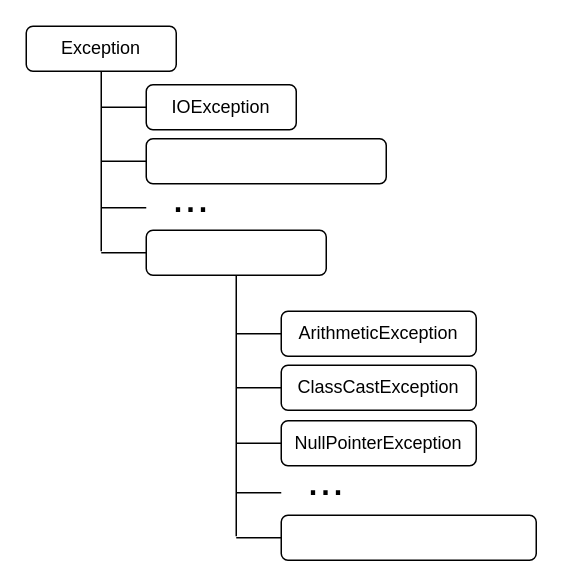
The diagram is 563 pixels wide and 587 high, and some of its shapes have lost their labels. Each missing label, with the centre of its shape:
"ClassNotFoundException" goes at point (265, 160).
"IndexOutOfBoundsException" goes at point (408, 537).
"RuntimeException" goes at point (235, 252).
